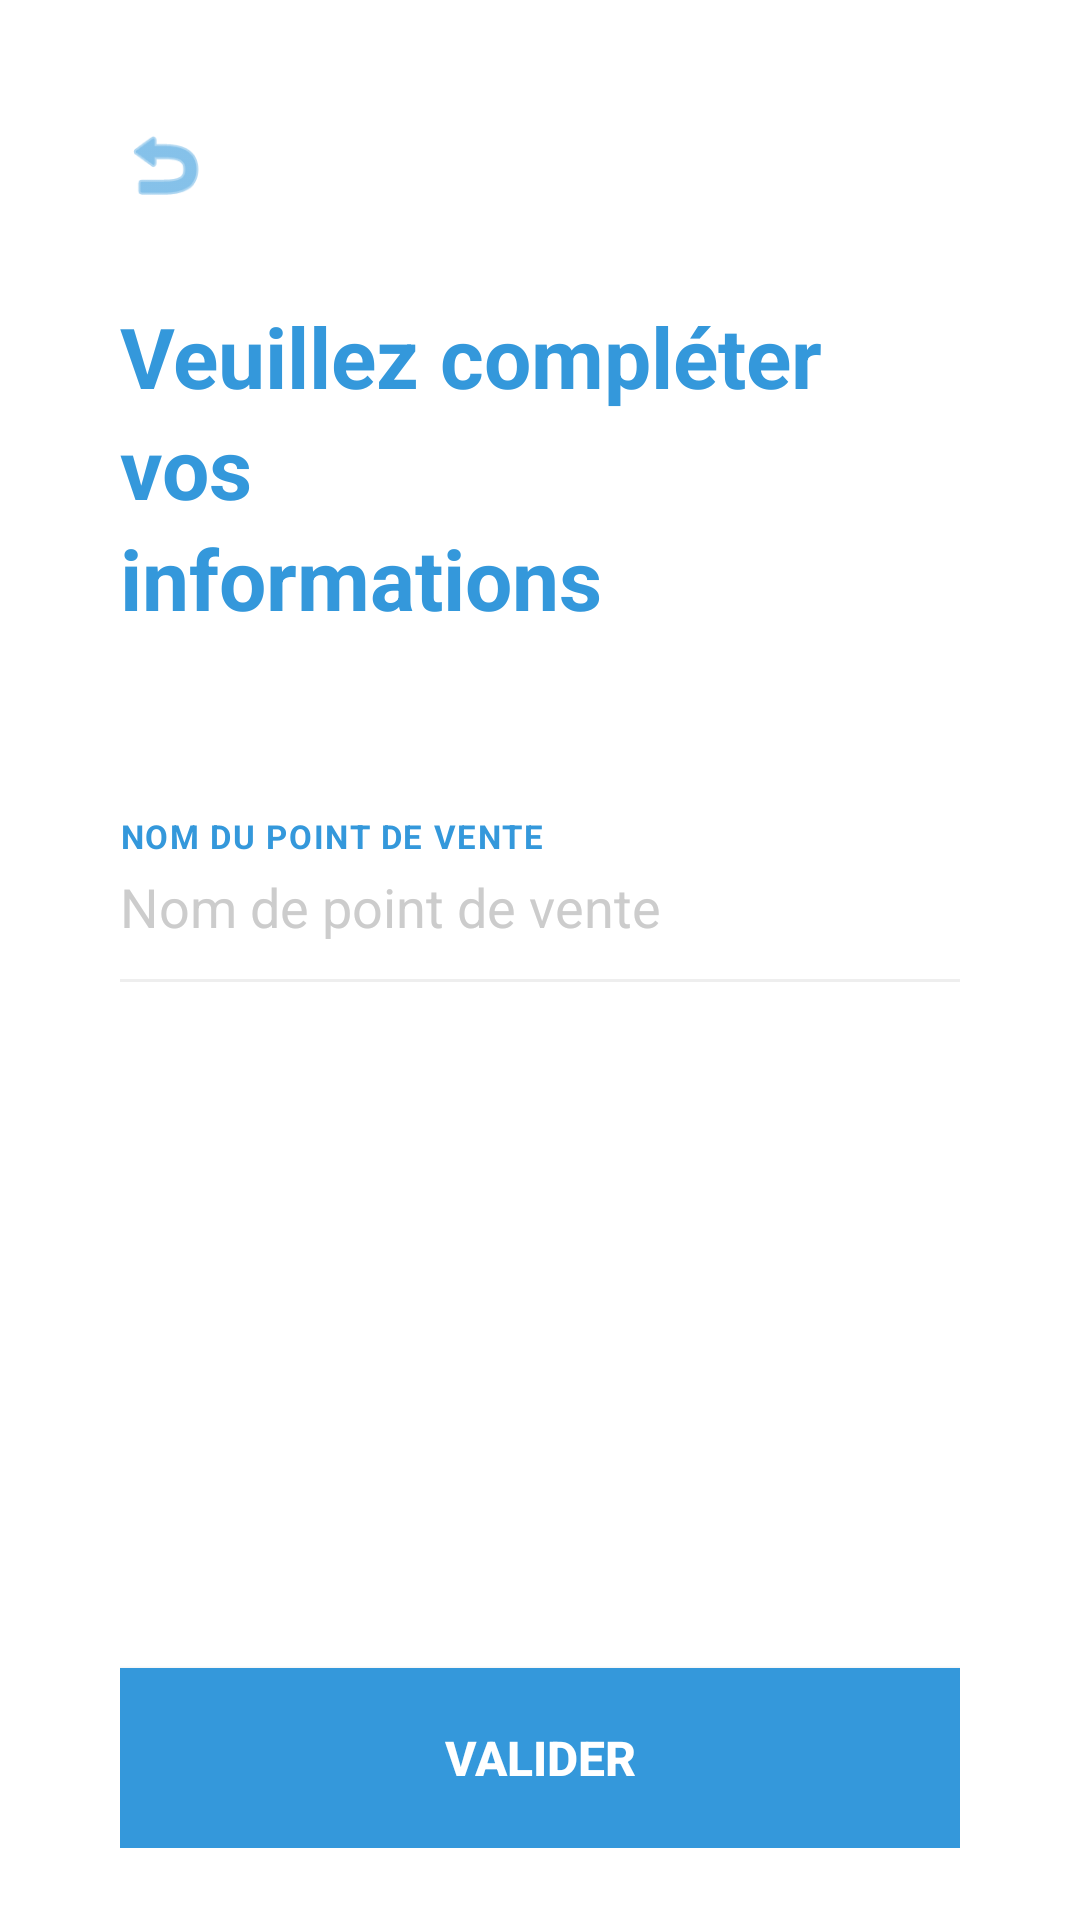

Locate icon controls on the screen. Image size 1080 × 1920, boxes as BBox(x1, y1, x2, y2).
revert: BBox(134, 136, 199, 195)
